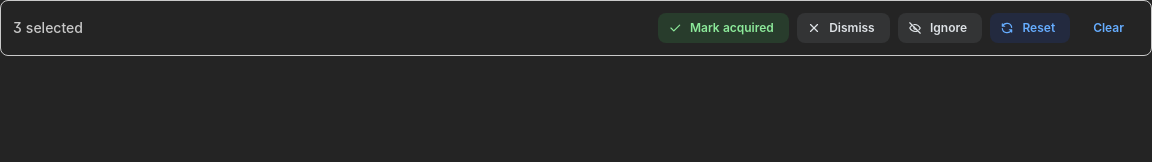
ReleasesBulkActionBar › explains Ignore on hover
The width and height of the screenshot is (1152, 162).
Hover over the button "Ignore".
mouse_move(940, 28)  # box x1=898 y1=13 x2=982 y2=43
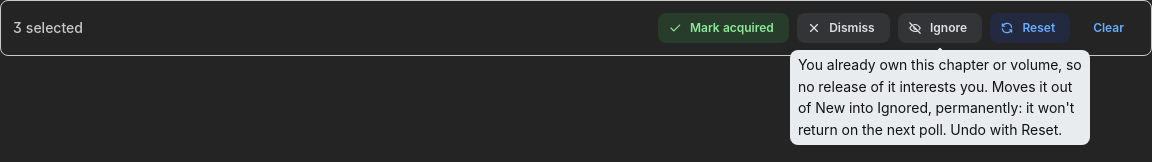
Expected: the tooltip "You already own this chapter or volume, so no release of it interests you. Moves it out of New into Ignored, permanently" is shown, x1=798 y1=56 x2=1082 y2=138
